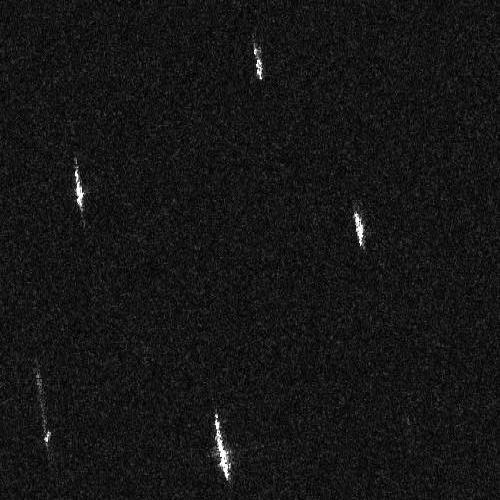ship: (214, 412, 231, 483), (36, 373, 51, 444), (73, 163, 84, 213), (352, 209, 365, 248), (253, 42, 264, 82)
